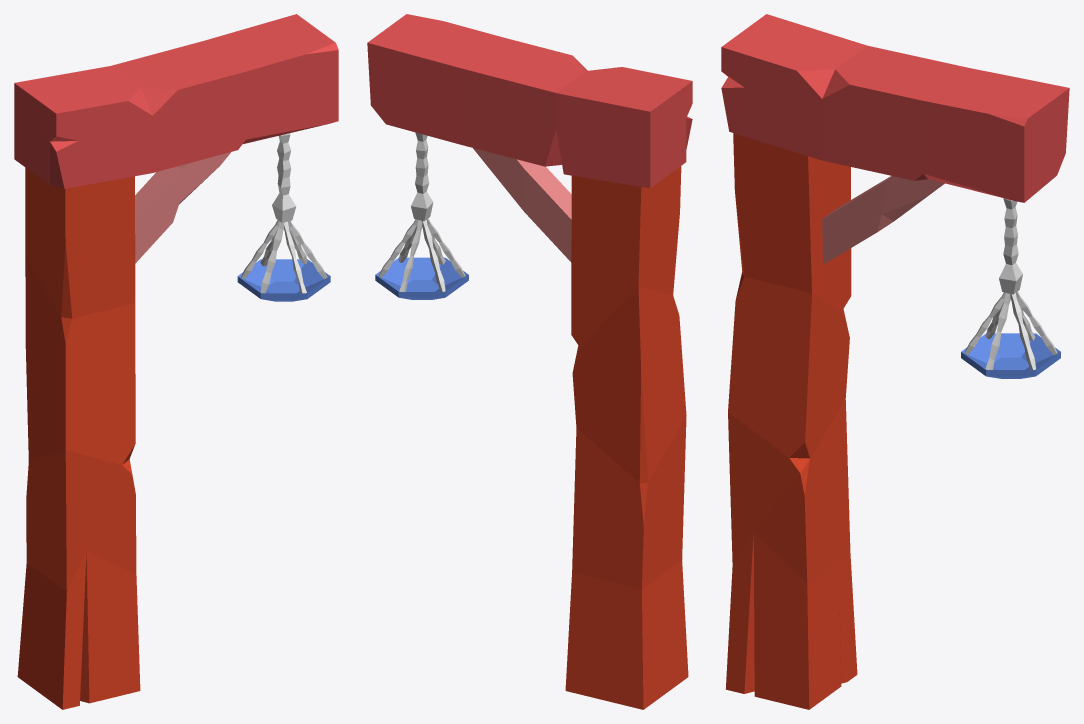
File: Lamp.fbx
3 views of the same model, side by side, from view 1: azimuth 30°, elevation 25°; view 2: azimuth 150°, elevation 25°; view 3: azimuth 330°, elevation 25° (orthographic). The views are drawn at different scales.
Visible parts, largest first — view 1: Lamp; view 2: Lamp; view 3: Lamp.
Boxes of the visible parts, box(x1,y1,x2,y2) form: Lamp: box(14, 14, 338, 709); Lamp: box(367, 14, 692, 709); Lamp: box(721, 14, 1069, 709).
Size of the model in its own units: 1.14 by 2.29 by 0.3251.
